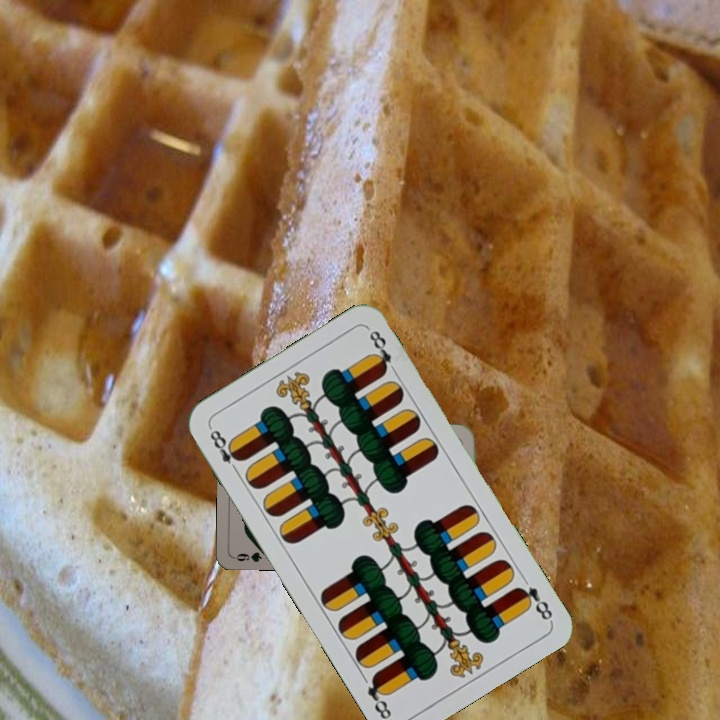E8: (205, 423, 245, 477), (512, 582, 555, 623)
G9: (231, 546, 271, 565)
